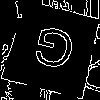G: (27, 24, 79, 80)
